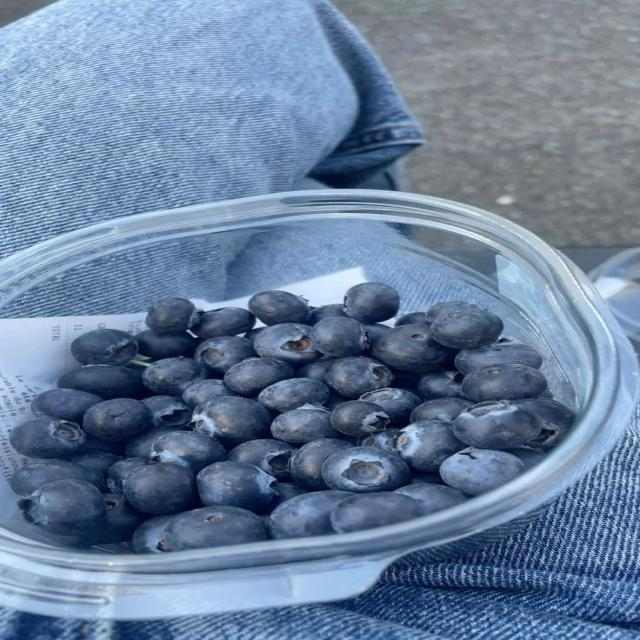blueberry: (18, 480, 106, 535), (163, 506, 269, 550), (453, 401, 541, 449), (371, 325, 457, 372), (197, 461, 276, 512), (269, 491, 353, 538), (440, 448, 524, 495), (322, 447, 409, 492), (191, 397, 271, 445), (330, 492, 425, 532), (396, 419, 465, 472), (123, 463, 194, 514), (80, 494, 147, 545), (10, 460, 102, 496), (9, 416, 86, 458), (290, 439, 353, 490), (150, 432, 226, 473), (462, 365, 546, 402), (83, 398, 152, 441), (431, 308, 503, 349), (514, 398, 575, 446), (58, 366, 144, 399), (254, 323, 321, 364), (455, 343, 542, 374), (227, 439, 296, 478), (326, 357, 393, 397), (224, 358, 293, 396), (31, 389, 102, 425), (271, 405, 339, 442), (142, 358, 208, 396), (258, 378, 329, 412), (71, 329, 138, 365), (195, 336, 255, 375), (360, 388, 421, 426), (395, 483, 466, 514), (344, 283, 399, 323), (312, 318, 368, 357), (248, 291, 310, 325), (331, 400, 389, 436), (191, 307, 255, 339), (135, 330, 198, 360), (146, 298, 198, 334), (70, 452, 121, 488), (125, 428, 179, 459), (131, 515, 175, 553), (141, 396, 191, 427), (183, 380, 235, 409), (410, 398, 472, 422), (106, 458, 148, 493), (418, 371, 464, 401), (426, 301, 480, 323), (358, 429, 400, 452), (270, 483, 307, 508), (507, 447, 546, 470), (296, 358, 333, 382), (80, 438, 126, 456), (390, 368, 422, 392), (308, 304, 346, 324), (364, 323, 390, 344), (410, 471, 445, 485), (394, 312, 428, 326), (323, 395, 348, 411), (244, 327, 266, 342), (539, 389, 555, 399)
